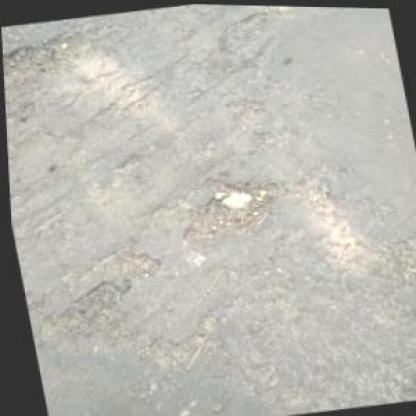pothole: (171, 171, 287, 251), (98, 238, 162, 276), (75, 276, 123, 312), (221, 93, 268, 129)
